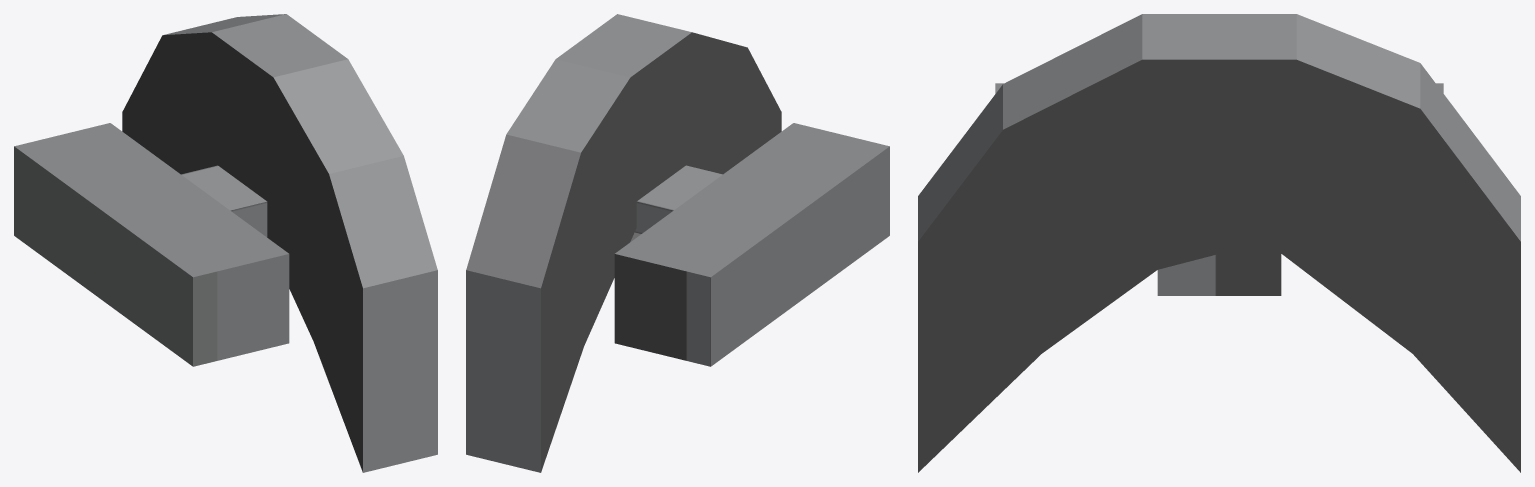
The picture shows the model from 3 angles, left to right: view 1: azimuth 30°, elevation 25°; view 2: azimuth 150°, elevation 25°; view 3: azimuth 270°, elevation 25°; orthographic projection. The views are drawn at different scales.
Size of the model in its own units: 0.04 by 0.059 by 0.078.
